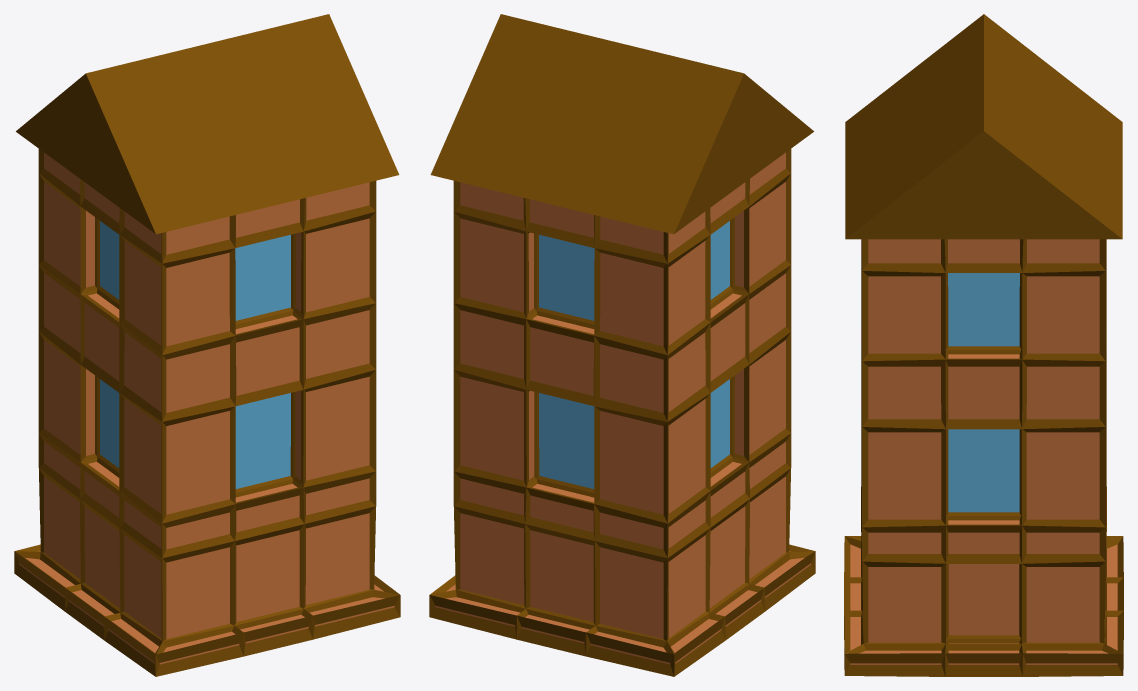
Rendered from house-twostory.glb.
The picture shows the model from 3 angles, left to right: view 1: azimuth 30°, elevation 25°; view 2: azimuth 150°, elevation 25°; view 3: azimuth 270°, elevation 25°; orthographic projection.
Visible parts, largest first — view 1: Object_4, Object_3, Object_2; view 2: Object_4, Object_3, Object_2; view 3: Object_4, Object_3, Object_2.
Boxes of the visible parts, left/top/right/bottom form: Object_4: left=14, top=14, right=400, bottom=676; Object_3: left=19, top=152, right=394, bottom=664; Object_2: left=100, top=221, right=290, bottom=488; Object_4: left=429, top=14, right=815, bottom=676; Object_3: left=435, top=152, right=810, bottom=664; Object_2: left=539, top=221, right=729, bottom=488; Object_4: left=844, top=14, right=1123, bottom=676; Object_3: left=850, top=239, right=1117, bottom=664; Object_2: left=948, top=273, right=1019, bottom=512.
Size of the model in its own units: 2.16 by 4.65 by 2.16.
